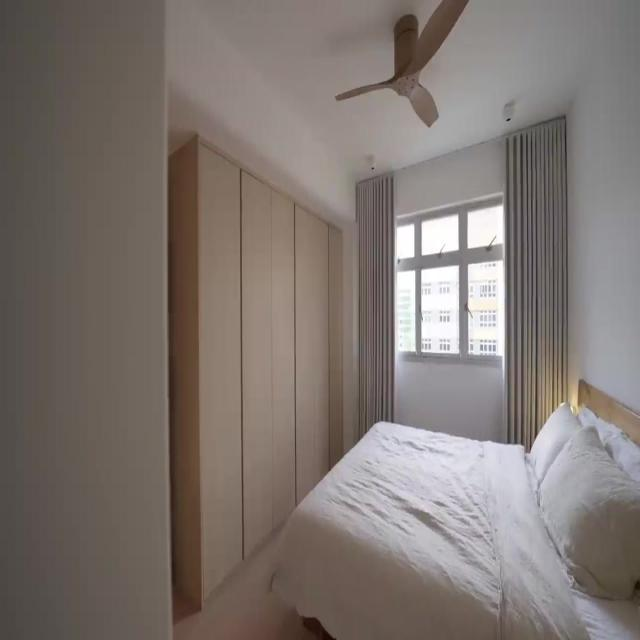obstacle: (270, 378, 640, 639)
